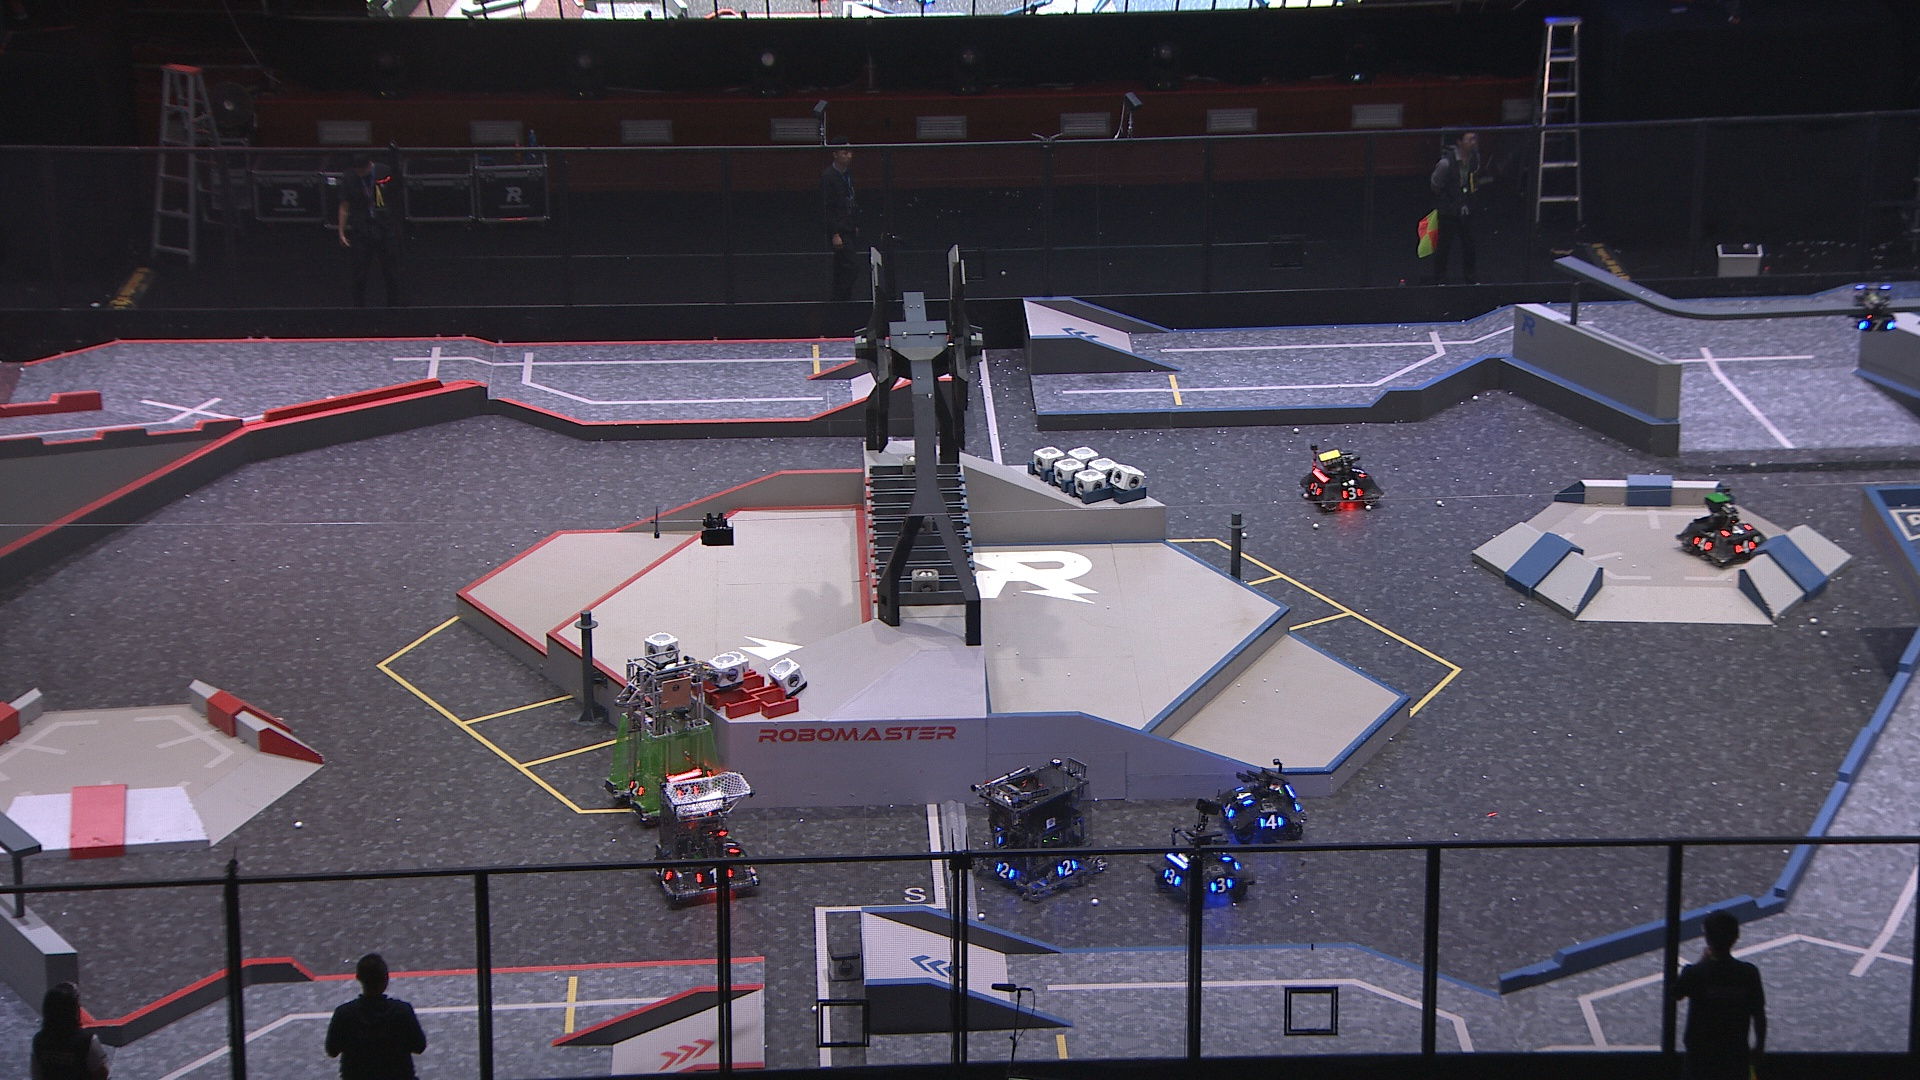armor: (695, 865, 735, 887), (1858, 318, 1896, 334), (1718, 524, 1753, 538), (1211, 876, 1236, 895), (1054, 858, 1077, 878), (996, 861, 1017, 882), (1691, 535, 1713, 555), (1163, 868, 1185, 887), (1733, 538, 1756, 556), (1234, 785, 1254, 806), (628, 778, 646, 799), (724, 836, 742, 856), (657, 864, 674, 884), (1222, 800, 1238, 822), (1259, 815, 1284, 828), (1342, 487, 1365, 500), (1307, 481, 1323, 498), (1349, 465, 1367, 480)
car: (604, 647, 721, 825), (972, 756, 1114, 898), (654, 774, 761, 903), (1143, 823, 1259, 905), (1218, 760, 1309, 851), (1677, 483, 1766, 571), (1298, 442, 1390, 514)
watcher: (1850, 285, 1898, 335)
